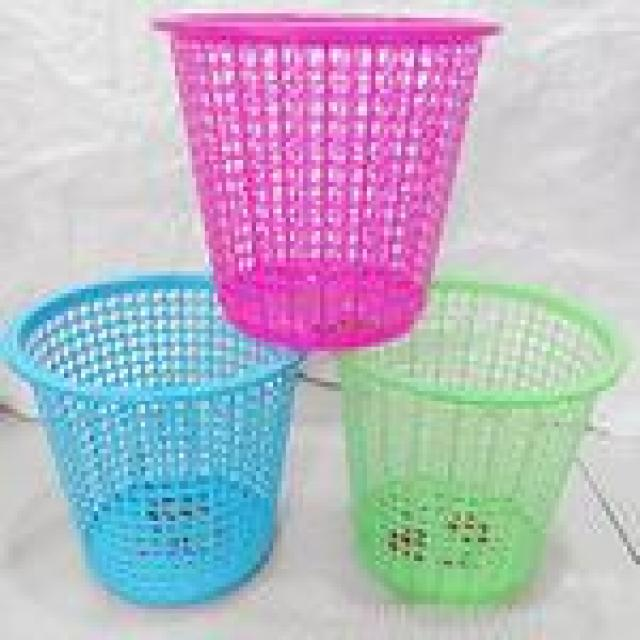Dustbin: (143, 4, 508, 353), (1, 265, 309, 613), (336, 267, 632, 608)
